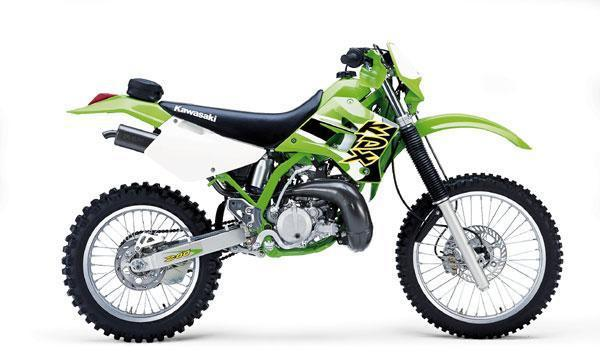motorcycle: (49, 36, 581, 355)
